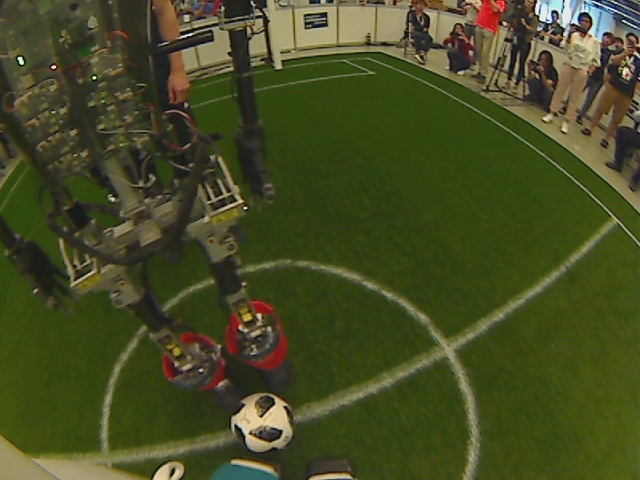ball: (229, 390, 297, 454)
